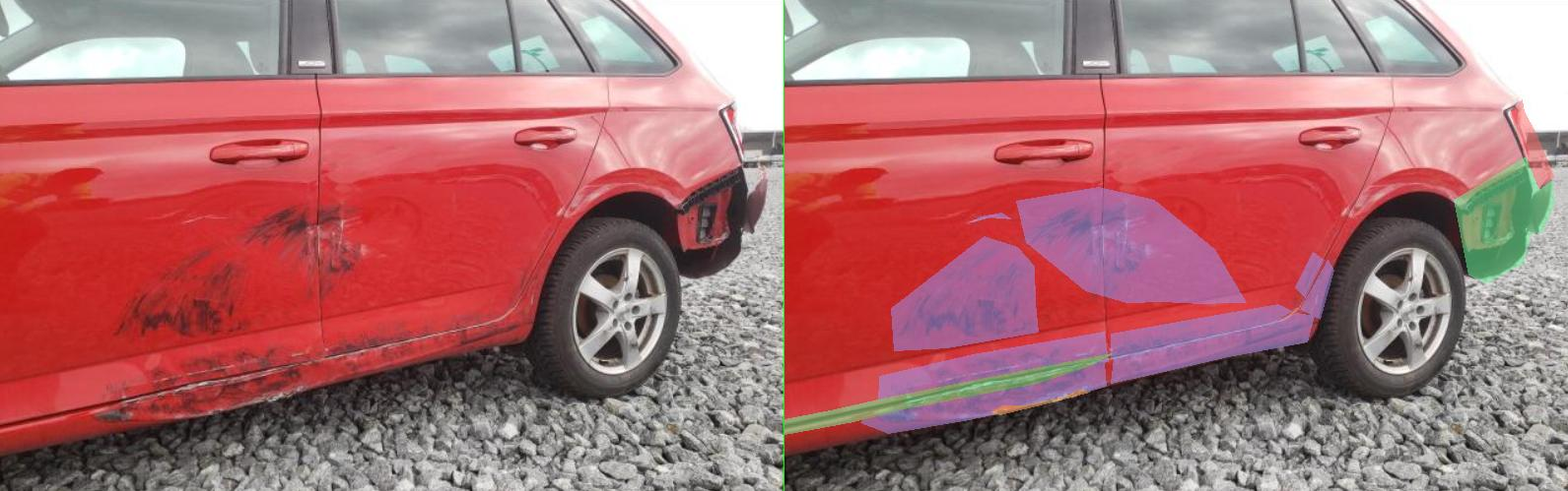Broken part: (0, 353, 655, 434), (1339, 156, 1538, 282)
Missing part: (1452, 99, 1538, 187)
Paint chip: (412, 390, 609, 414)
Scratch: (463, 187, 923, 303), (152, 362, 643, 433), (213, 236, 507, 350), (187, 332, 647, 404), (653, 313, 1059, 383), (653, 304, 1014, 358), (1032, 260, 1099, 319), (1022, 252, 1079, 297), (371, 213, 452, 221)
